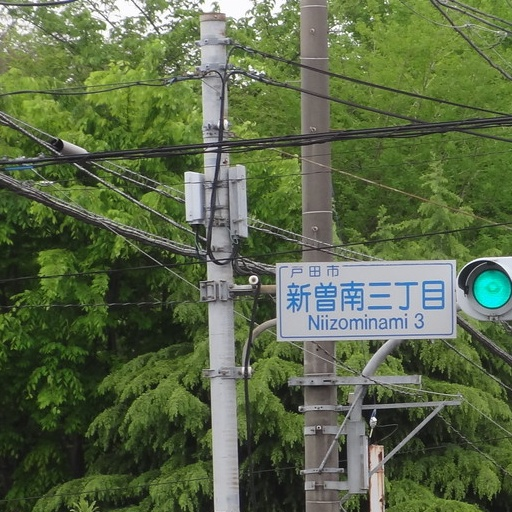Traffic_Signal_Blue: (458, 249, 512, 314)
